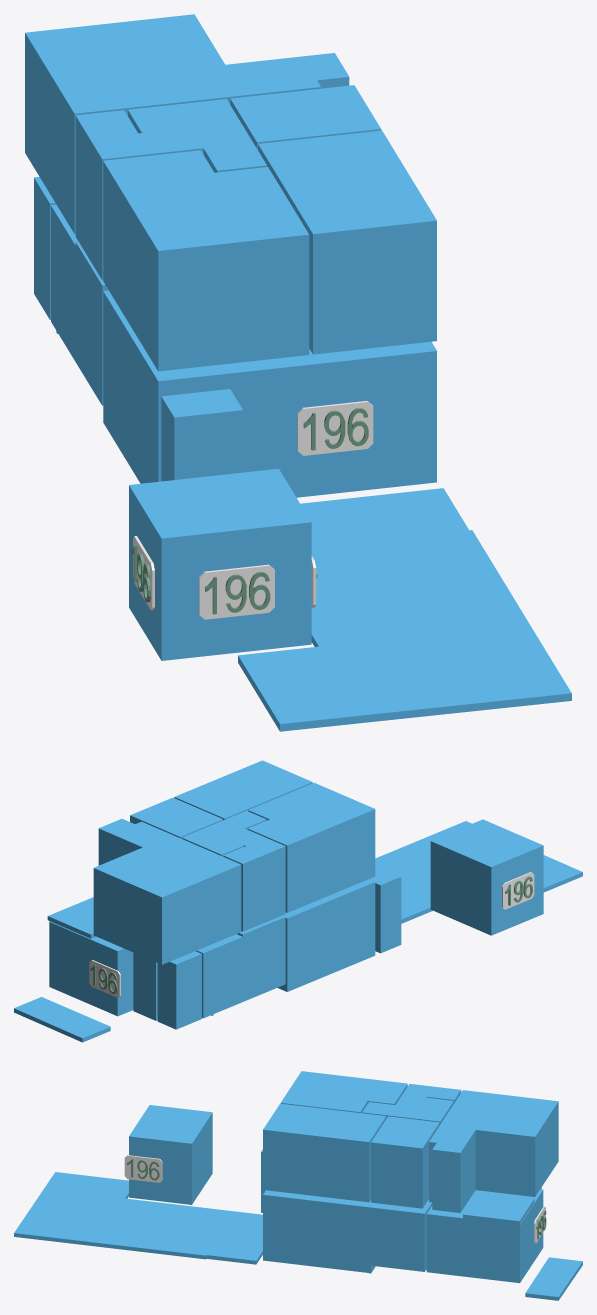
3 views of the same model, one above another, from view 1: azimuth 30°, elevation 25°; view 2: azimuth 150°, elevation 25°; view 3: azimuth 270°, elevation 25° (orthographic). The views are drawn at different scales.
Parts seen in each view (by area): view 1: g_13, g_6, g_1, g_7, g_5, g_11, g_4, g_2, g_9, g_8, g_10, g_34 (+2 smaller); view 2: g_11, g_6, g_5, g_2, g_1, g_0, g_7, g_13, g_10, g_3, g_4, g_14 (+5 smaller); view 3: g_13, g_11, g_1, g_7, g_0, g_5, g_9, g_6, g_12, g_8, g_14, g_22 (+1 smaller).
Boxes of the visible parts, box(x1,y1,x2,y2) form: g_13: box(238, 488, 571, 731); g_6: box(103, 150, 309, 371); g_1: box(103, 290, 436, 497); g_7: box(258, 130, 436, 354); g_5: box(129, 468, 311, 660); g_11: box(25, 14, 349, 233); g_4: box(161, 389, 243, 481); g_2: box(51, 204, 108, 405); g_9: box(230, 85, 381, 149); g_8: box(128, 99, 266, 172); g_10: box(75, 110, 157, 280); g_34: box(297, 401, 373, 455); g_11: box(93, 819, 241, 964); g_6: box(247, 782, 375, 912); g_5: box(430, 819, 543, 935); g_2: box(133, 915, 285, 1020); g_1: box(277, 879, 375, 991); g_0: box(49, 921, 133, 1016); g_7: box(174, 760, 312, 820); g_13: box(375, 821, 582, 923); g_10: box(223, 836, 285, 931); g_3: box(157, 951, 201, 1029); g_4: box(369, 865, 401, 953); g_14: box(14, 997, 110, 1042); g_13: box(14, 1172, 262, 1264); g_11: box(429, 1090, 558, 1212); g_1: box(263, 1190, 432, 1273); g_7: box(263, 1103, 386, 1202); g_0: box(426, 1189, 543, 1283); g_5: box(129, 1105, 212, 1204); g_9: box(371, 1116, 439, 1208); g_6: box(280, 1071, 407, 1113); g_12: box(463, 1192, 534, 1224); g_8: box(362, 1095, 453, 1124); g_14: box(525, 1257, 582, 1300); g_22: box(124, 1155, 162, 1182).
Size of the model in its own units: 11.13 by 5.35 by 20.43.
